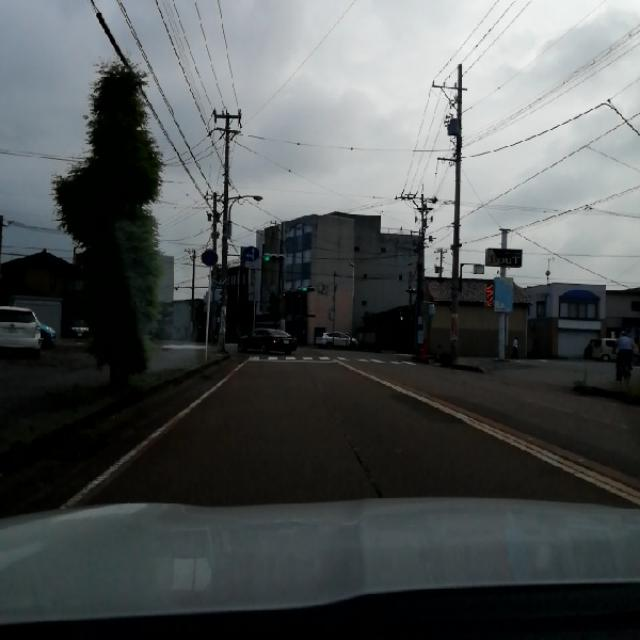pothole: (333, 411, 392, 488)
